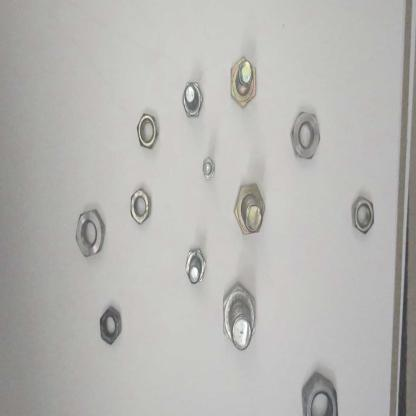Bolts: (218, 280, 261, 360), (230, 179, 270, 236), (226, 50, 258, 108), (182, 238, 209, 290), (180, 77, 205, 118), (201, 152, 218, 188)
NUTS: (286, 103, 326, 173), (68, 206, 108, 267), (134, 109, 166, 161), (96, 299, 124, 353), (349, 192, 376, 248), (126, 189, 154, 228)
